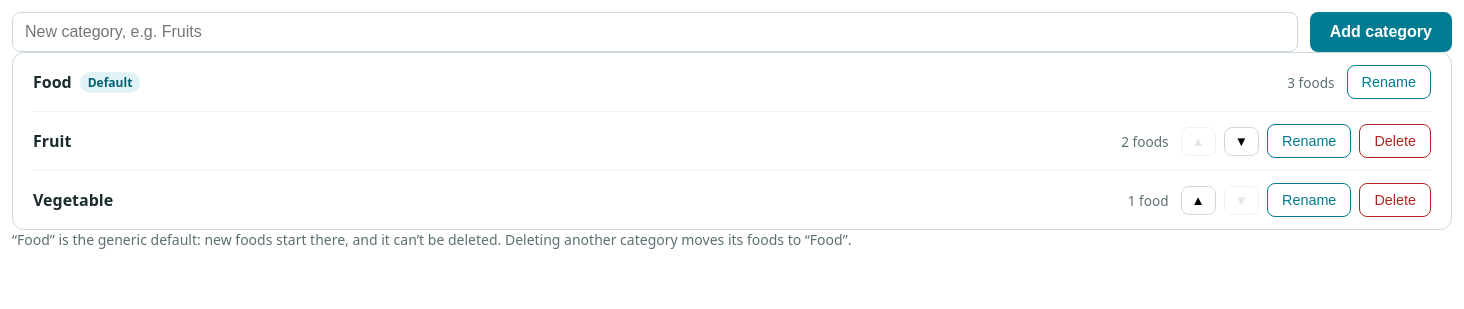
Test: CategoriesPage › shows the server error and keeps the list when a change fails
The width and height of the screenshot is (1464, 309).
Click the button "Delete" in the row of "Fruit": (1395, 141) [1359,124,1431,158]
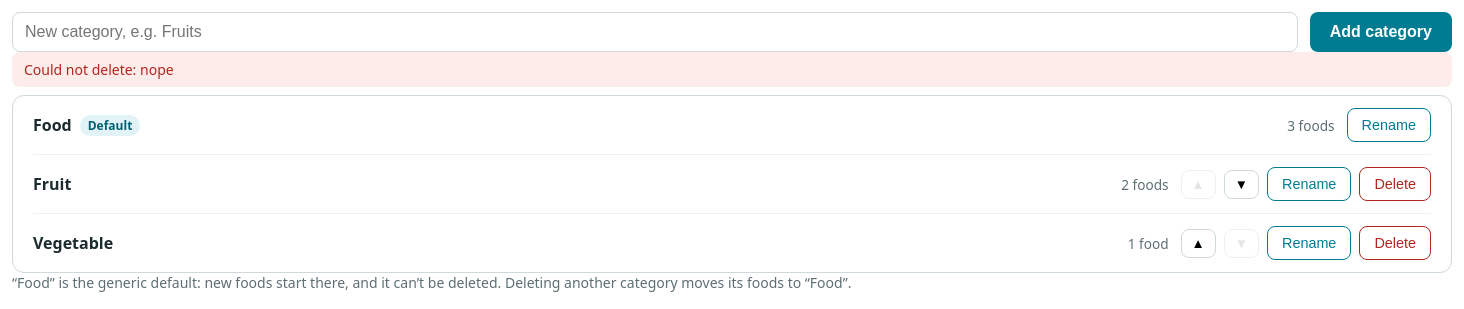
Expected: the text "Fruit" is shown, [33,173,71,195]
Now the message reads "Could not delete: nope", box [24,60,174,79]
